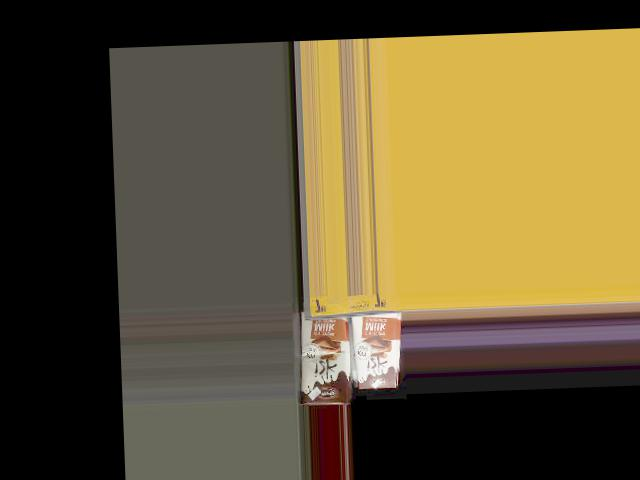chocolate: (351, 303, 408, 391)
